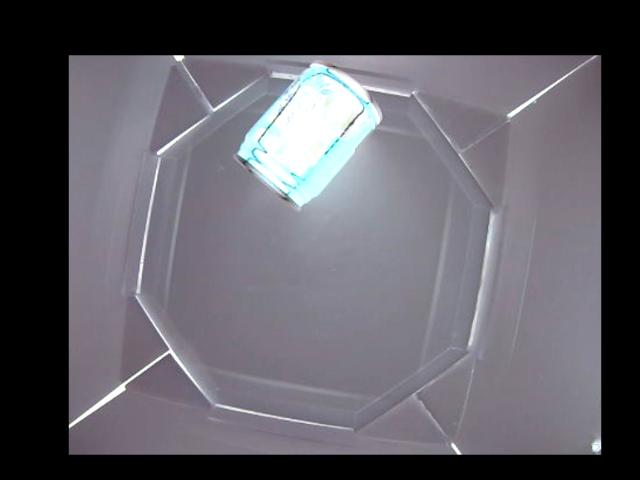Bottle: (236, 64, 384, 208)
